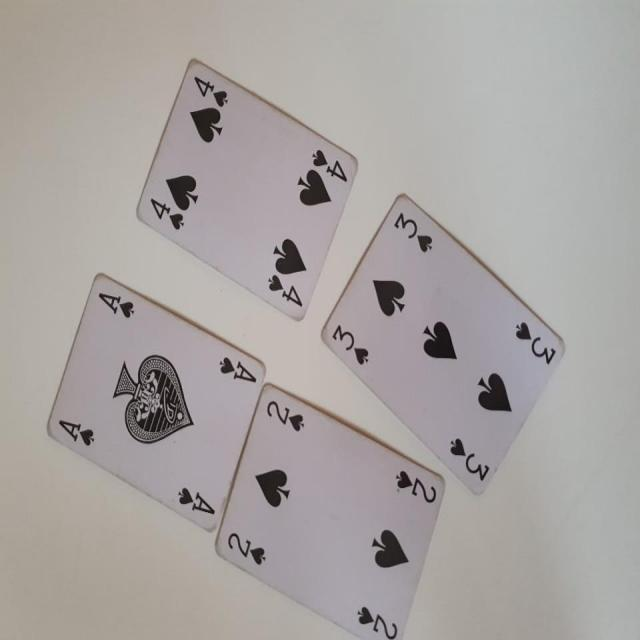3 Diamonds: (216, 385, 445, 640)
4 Diamonds: (317, 189, 567, 496)
5 Diamonds: (131, 54, 365, 327)
A Spades: (43, 267, 266, 534)
